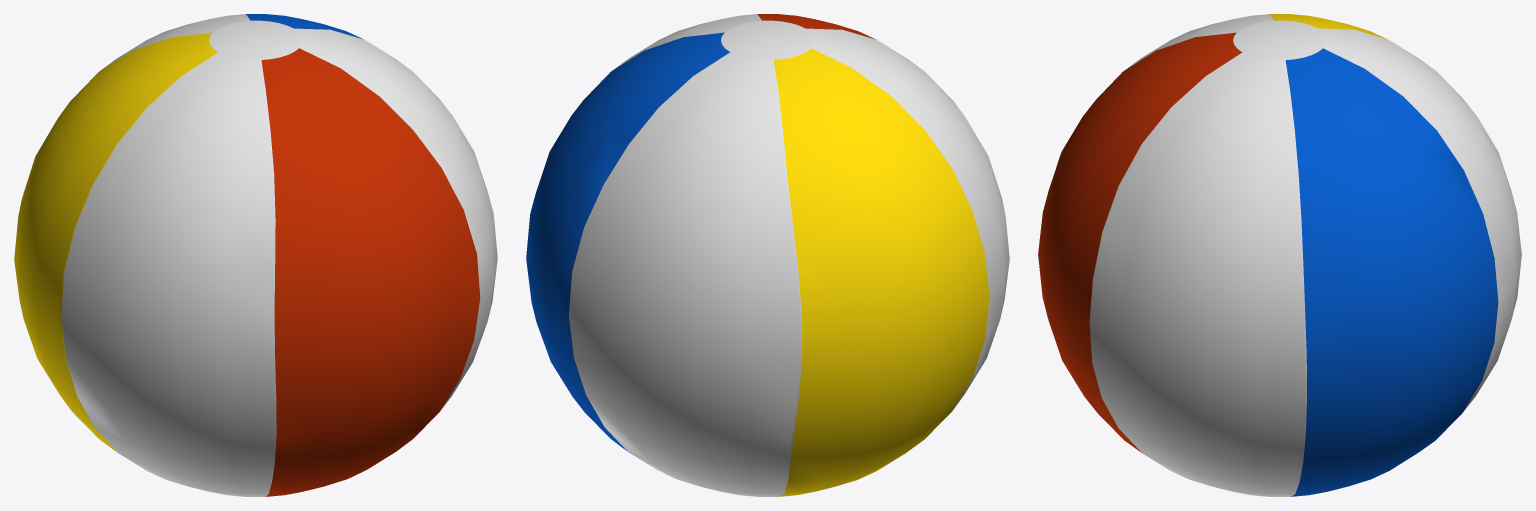
Rendered from Beachball.fbx.
3 views of the same model, side by side, from view 1: azimuth 30°, elevation 25°; view 2: azimuth 150°, elevation 25°; view 3: azimuth 270°, elevation 25° (orthographic).
Parts seen in each view (by area): view 1: Beachball; view 2: Beachball; view 3: Beachball.
Part boxes in pixels (x1,y1,x2,y2): Beachball: (14,14,497,496); Beachball: (526,14,1009,496); Beachball: (1038,14,1521,496).
Size of the model in its own units: 162 by 162 by 162.
